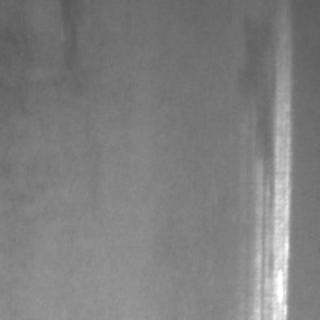inclusion: (56, 0, 84, 68)
scratches: (250, 69, 288, 315)
